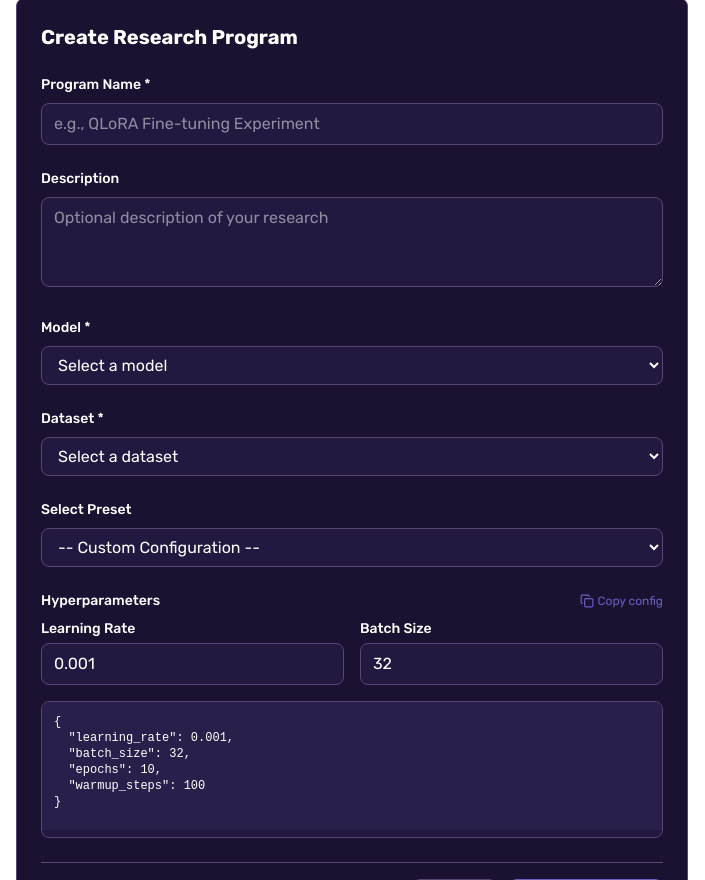
it: ResearchProgramEditor › Form Validation › should require model selection
Type "Test Program" into the field labelled "Program Name *" at (352, 124), box [41, 103, 663, 145]
(page scrolled)
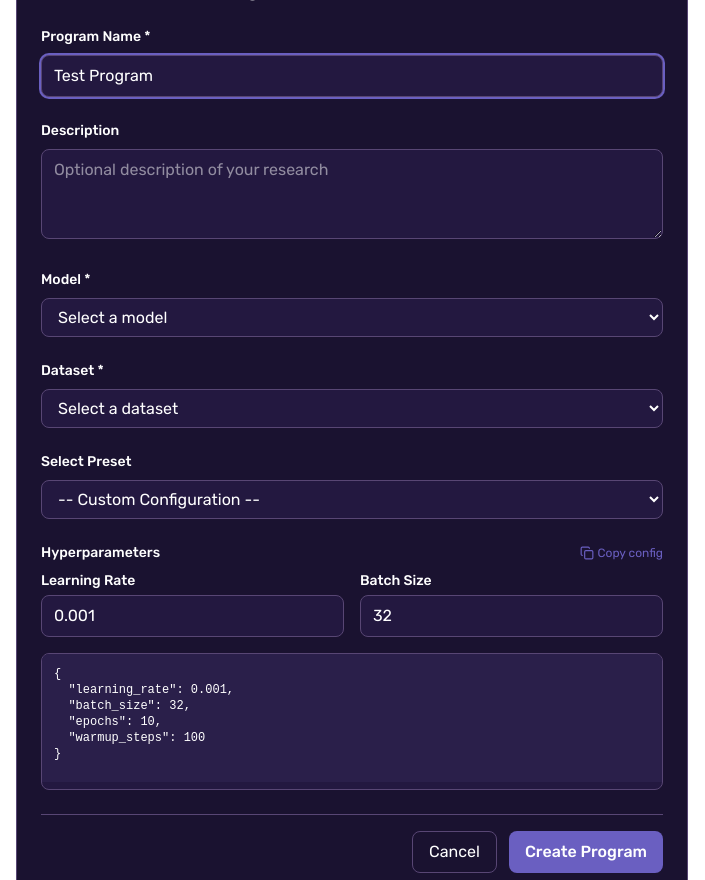
Click the button "Create Program" at (586, 852), box [509, 831, 663, 873]
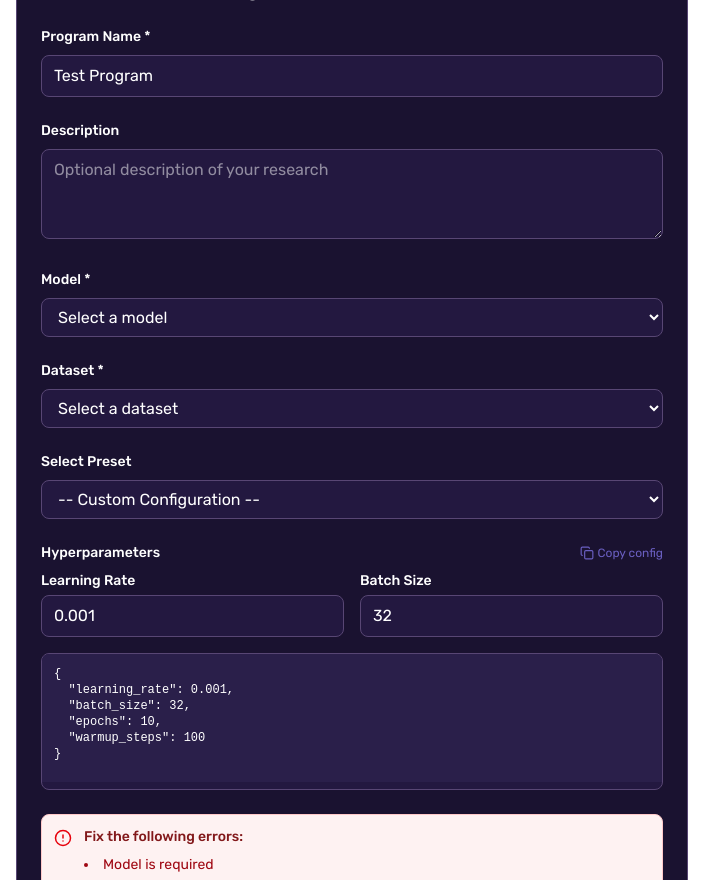
Expected: the list item "Model is required" is shown, [103, 856, 214, 873]
